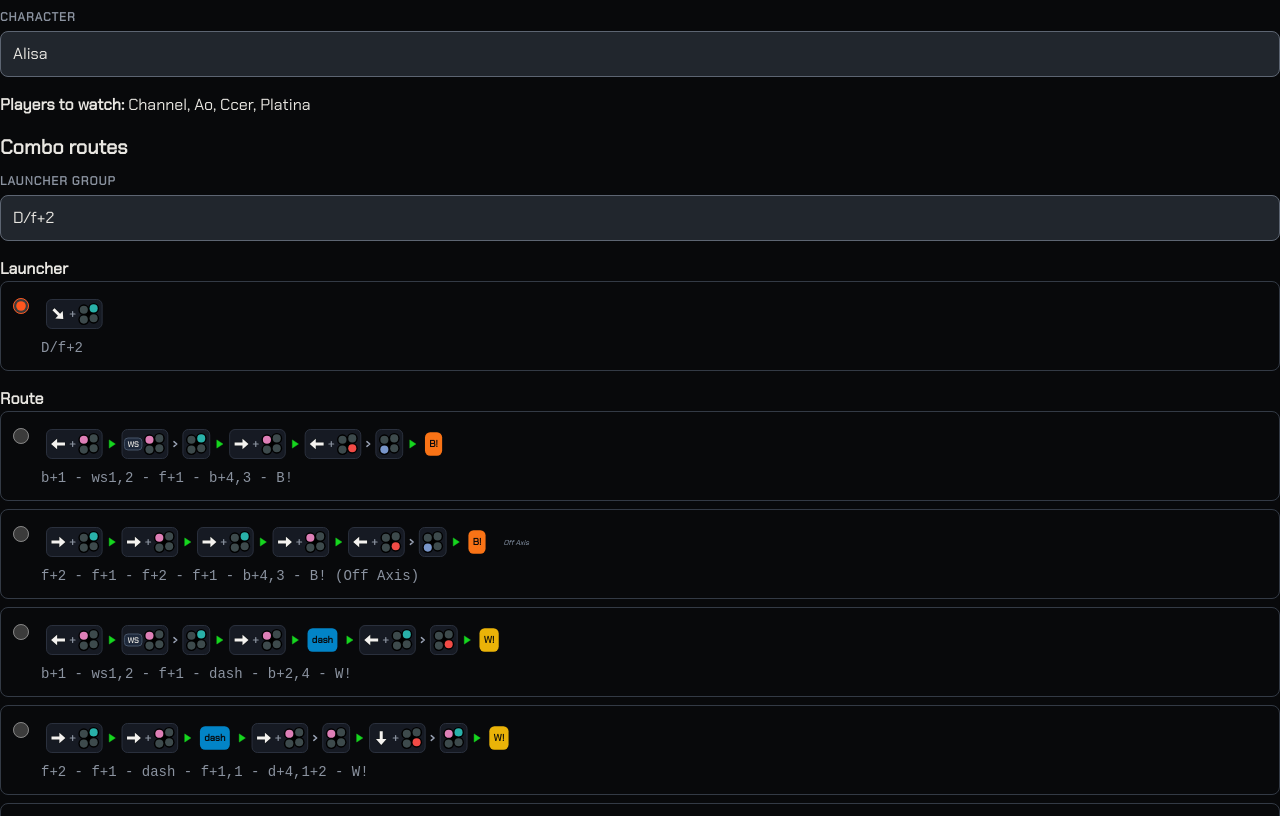
only offers marked routes for marked launchers
Select "Baek" in the dropdown labelled "Character" at [640, 54], box [0,31,1279,77]
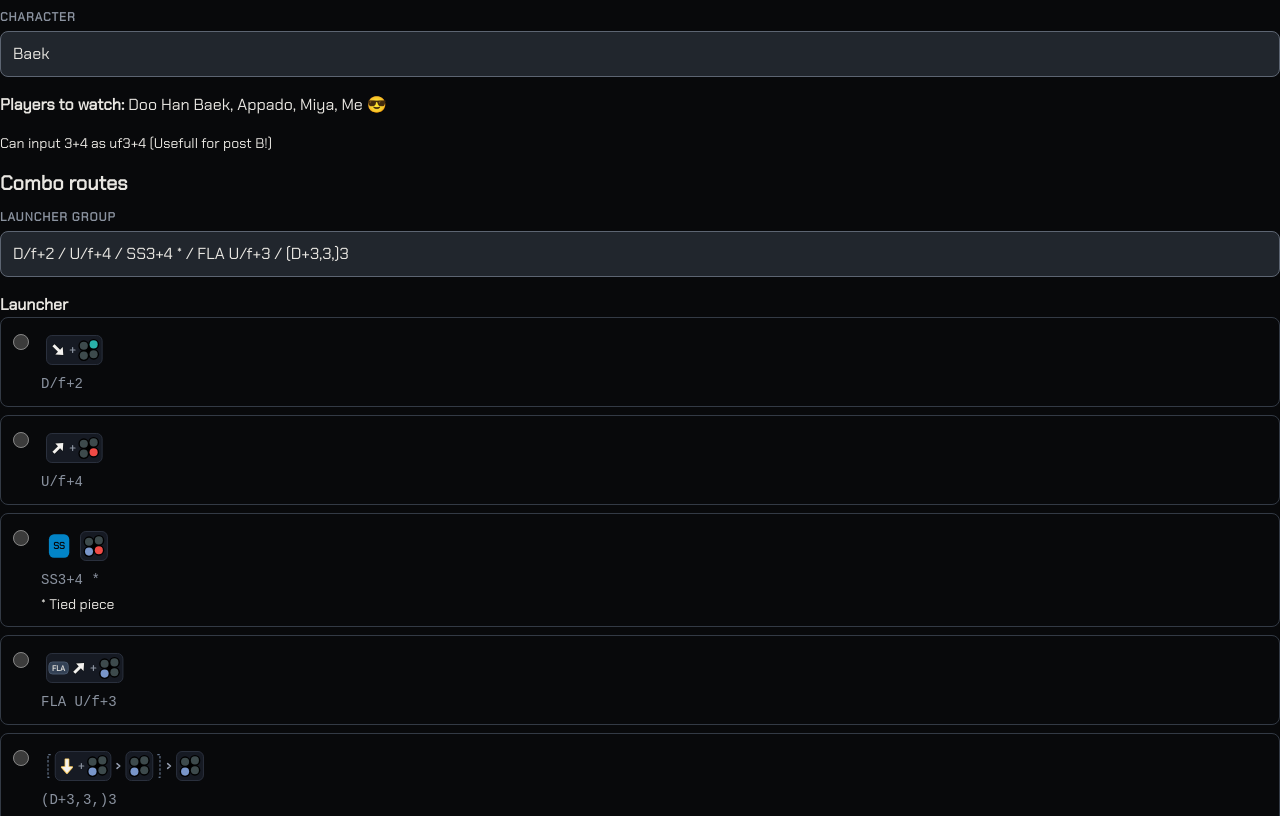
Select "D/f+2 / U/f+4 / SS3+4 * / FLA U/f+3 / (D+3,3,)3" in the dropdown labelled "Launcher group" at [640, 254], box [0,231,1279,277]
Click the radio button labelled "D/f+2".
click(21, 342)  # box [13,334,29,350]
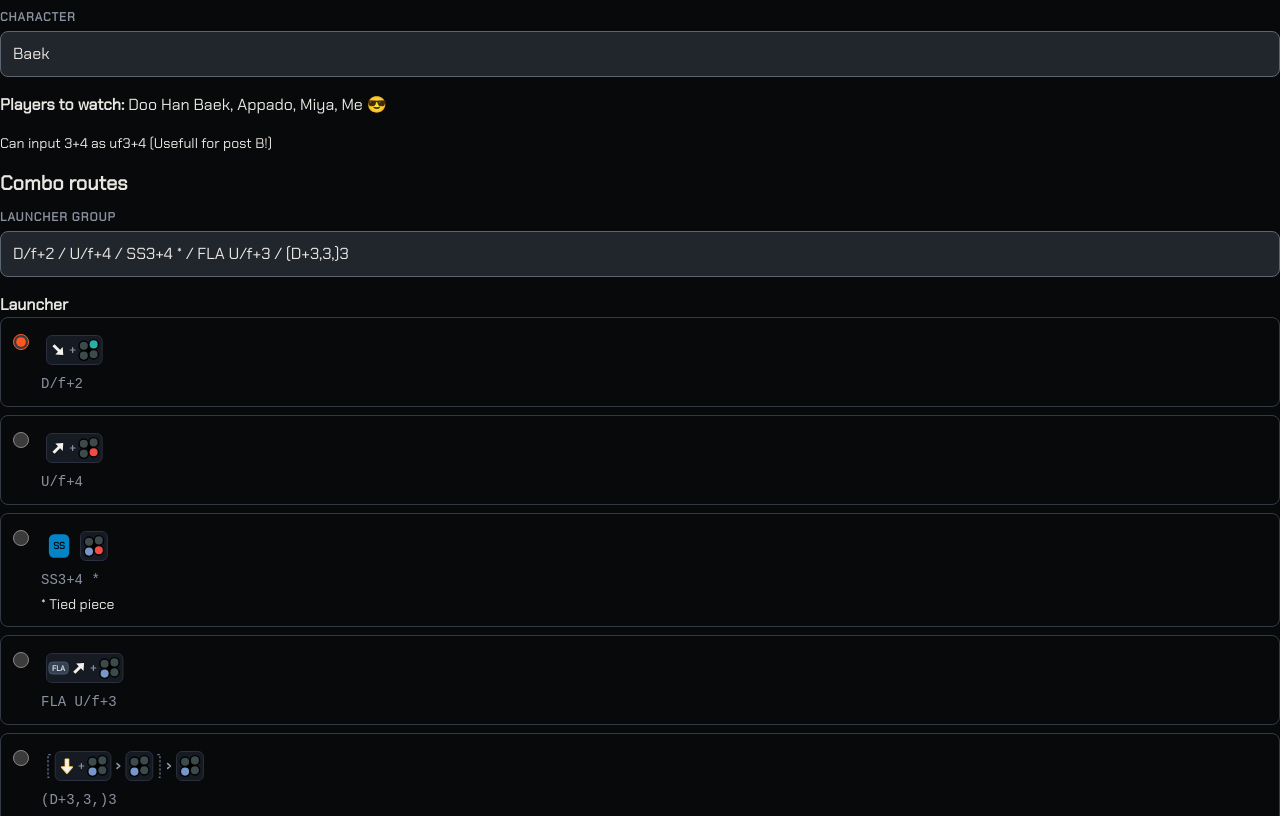
Expected: the radio button labelled "FLA D/b+3,3" is not shown
Click the radio button labelled "SS SS3+4 * * Tied piece".
click(21, 538)  # box [13,530,29,546]
(page scrolled)
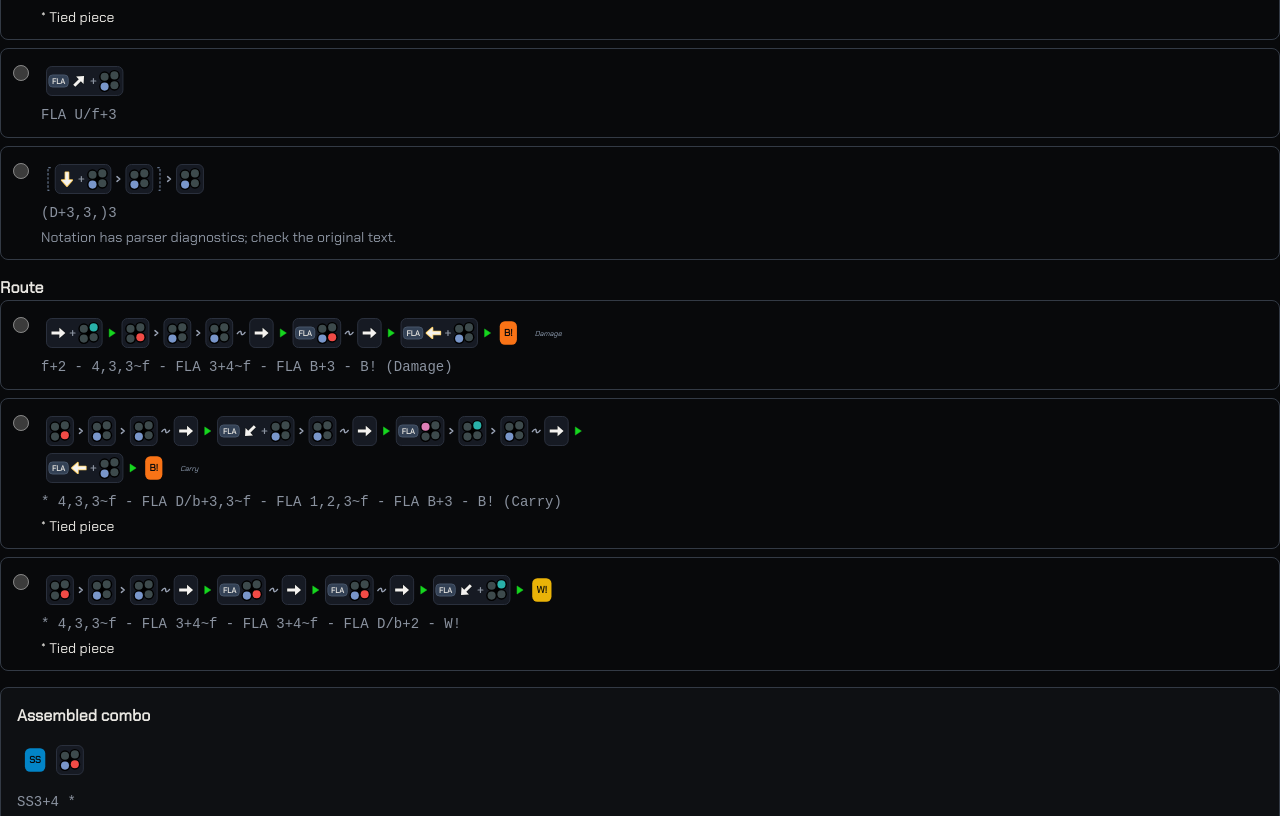
Result: the radio button labelled "FLA D/b+3,3" is shown at [13,415,29,431]
